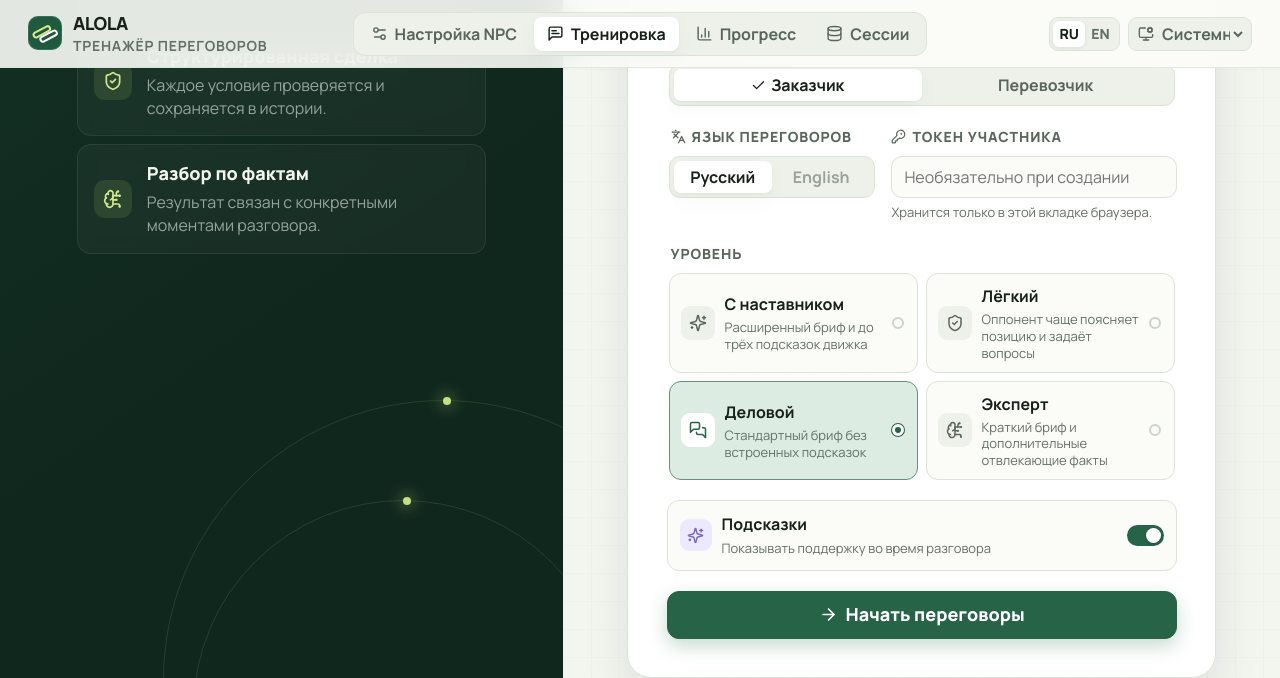
Test: new session confirmation › does not ask when the session is already finished
(page scrolled)
Click the button "Начать переговоры" at (922, 615), box [667,591,1177,639]
(page scrolled)
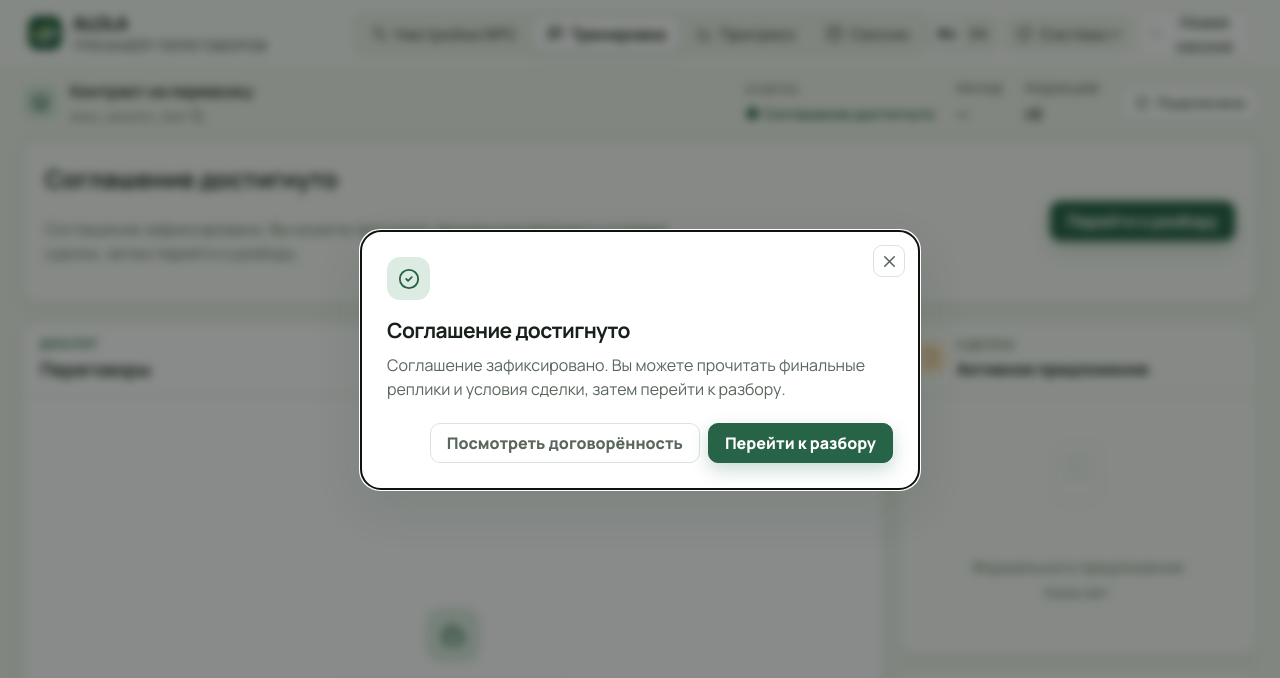
expect the dialog "Соглашение достигнуто" is shown: met, box [360,230,920,490]
Press Escape
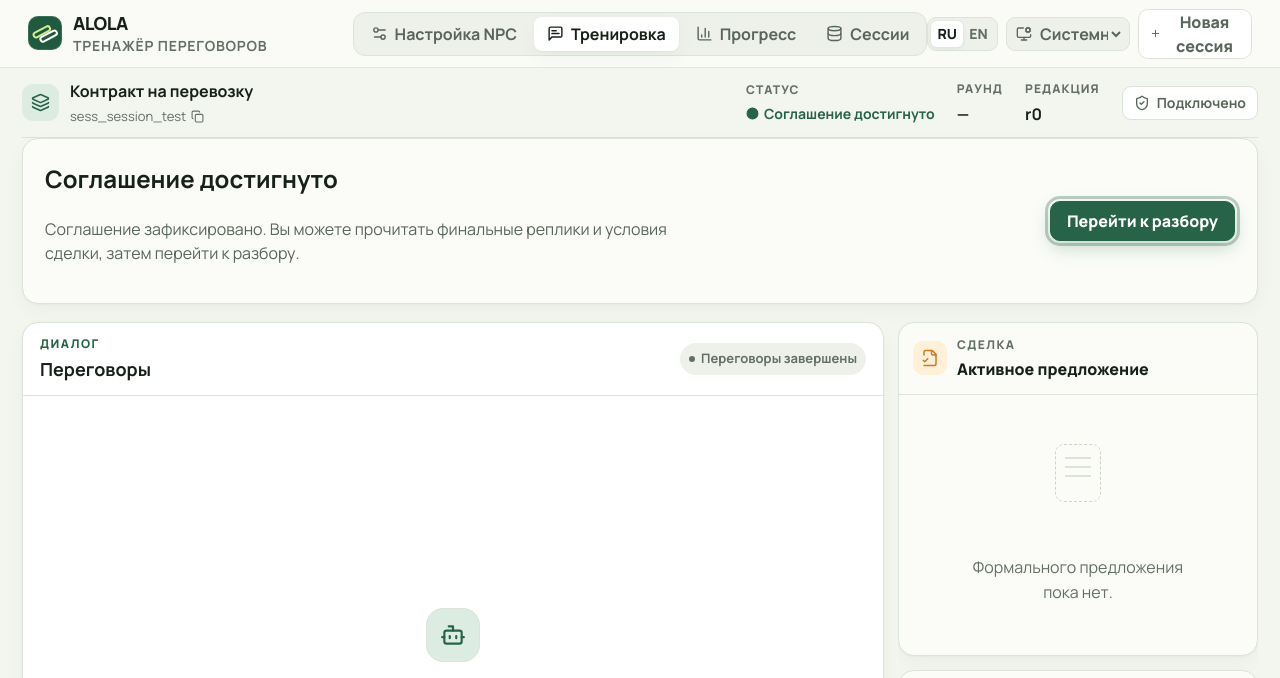
Click the button "Новая сессия" at (1195, 34), box [1138,8,1252,58]
(page scrolled)
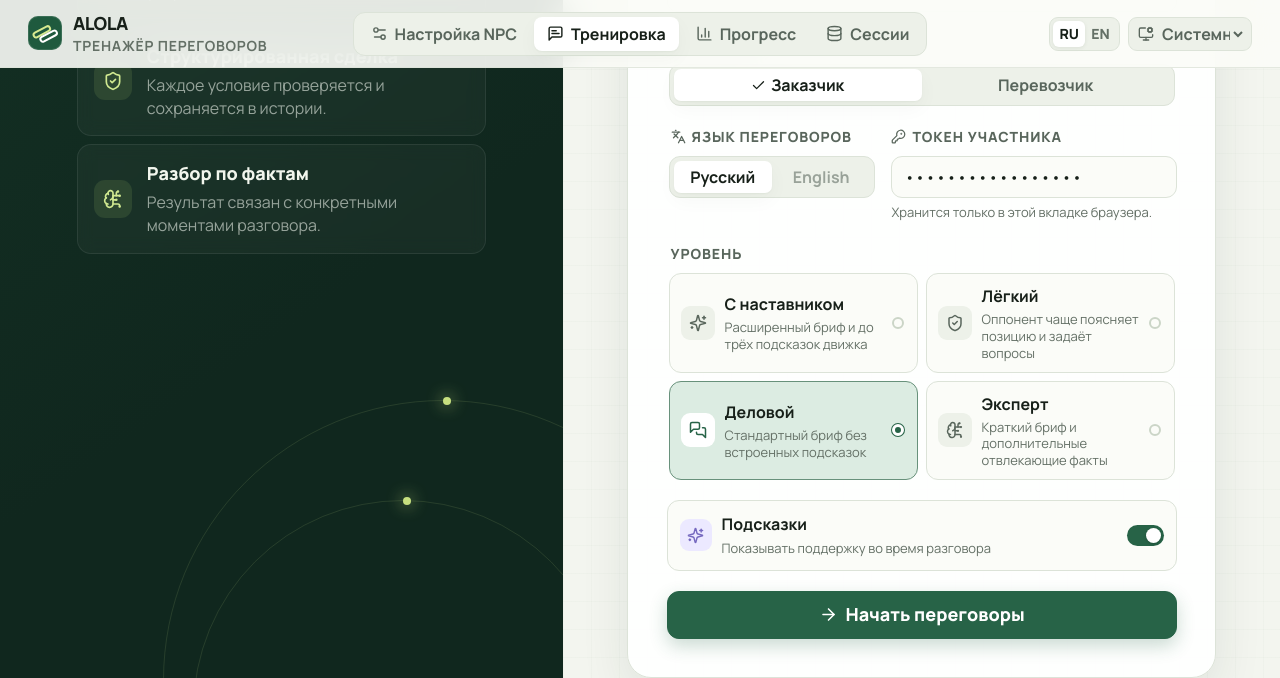
expect the button "Начать переговоры" is shown: met, box [667,591,1177,639]
